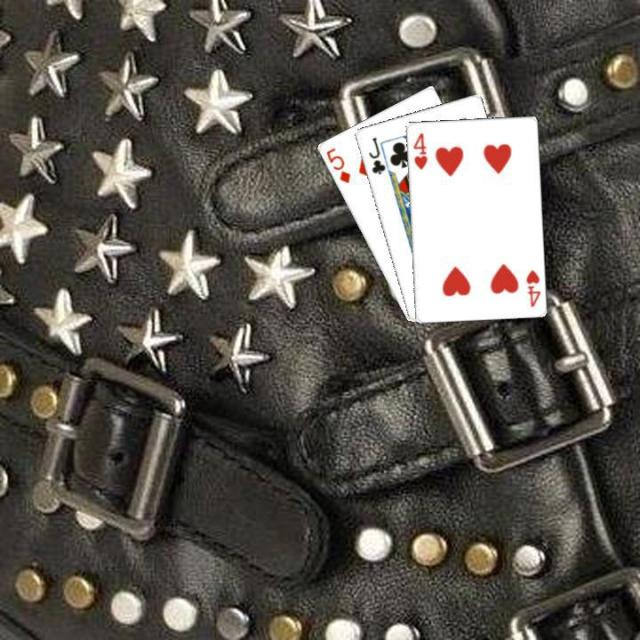4H: (522, 266, 542, 308), (409, 129, 428, 171)
5D: (322, 144, 352, 185)
JC: (364, 133, 386, 176)
